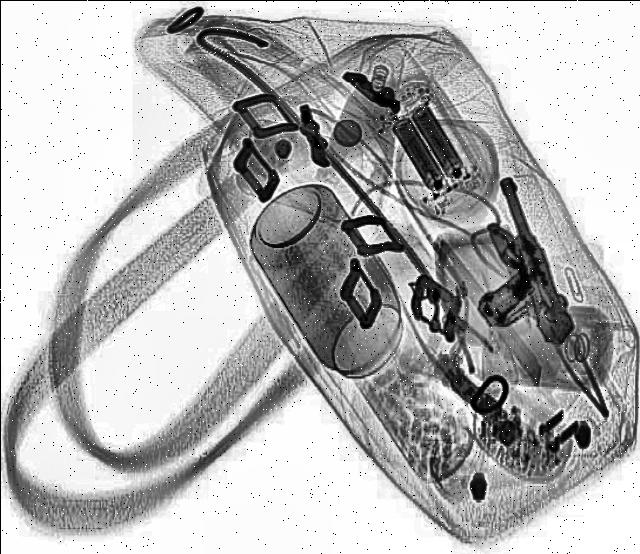Gun: (436, 177, 580, 359)
